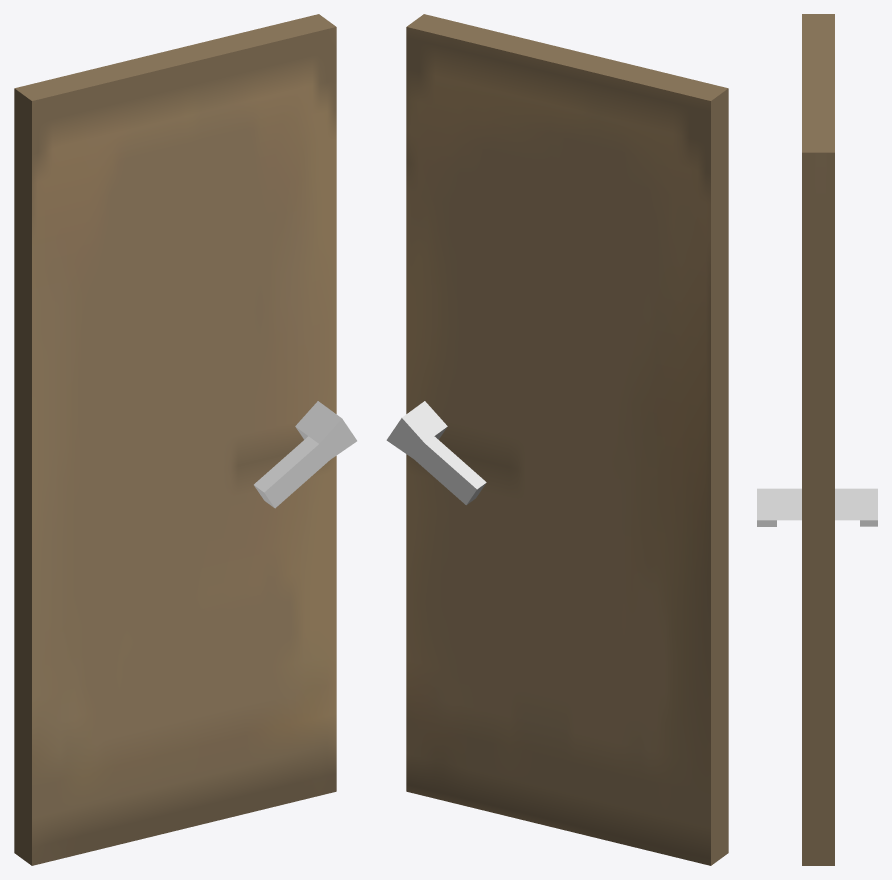
Rendered from door.fbx.
3 views of the same model, side by side, from view 1: azimuth 30°, elevation 25°; view 2: azimuth 150°, elevation 25°; view 3: azimuth 270°, elevation 25° (orthographic). The views are drawn at different scales.
Parts seen in each view (by area): view 1: door, Cube; view 2: door, Cube; view 3: door, Cube.
Boxes of the visible parts, <box> form: door: <box>14,14,336,865</box>; Cube: <box>254,401,356,508</box>; door: <box>406,14,728,865</box>; Cube: <box>386,401,486,505</box>; door: <box>802,14,834,865</box>; Cube: <box>757,488,877,526</box>.
Size of the model in its own units: 100 by 240 by 36.87.
1 material, 1 textured.
